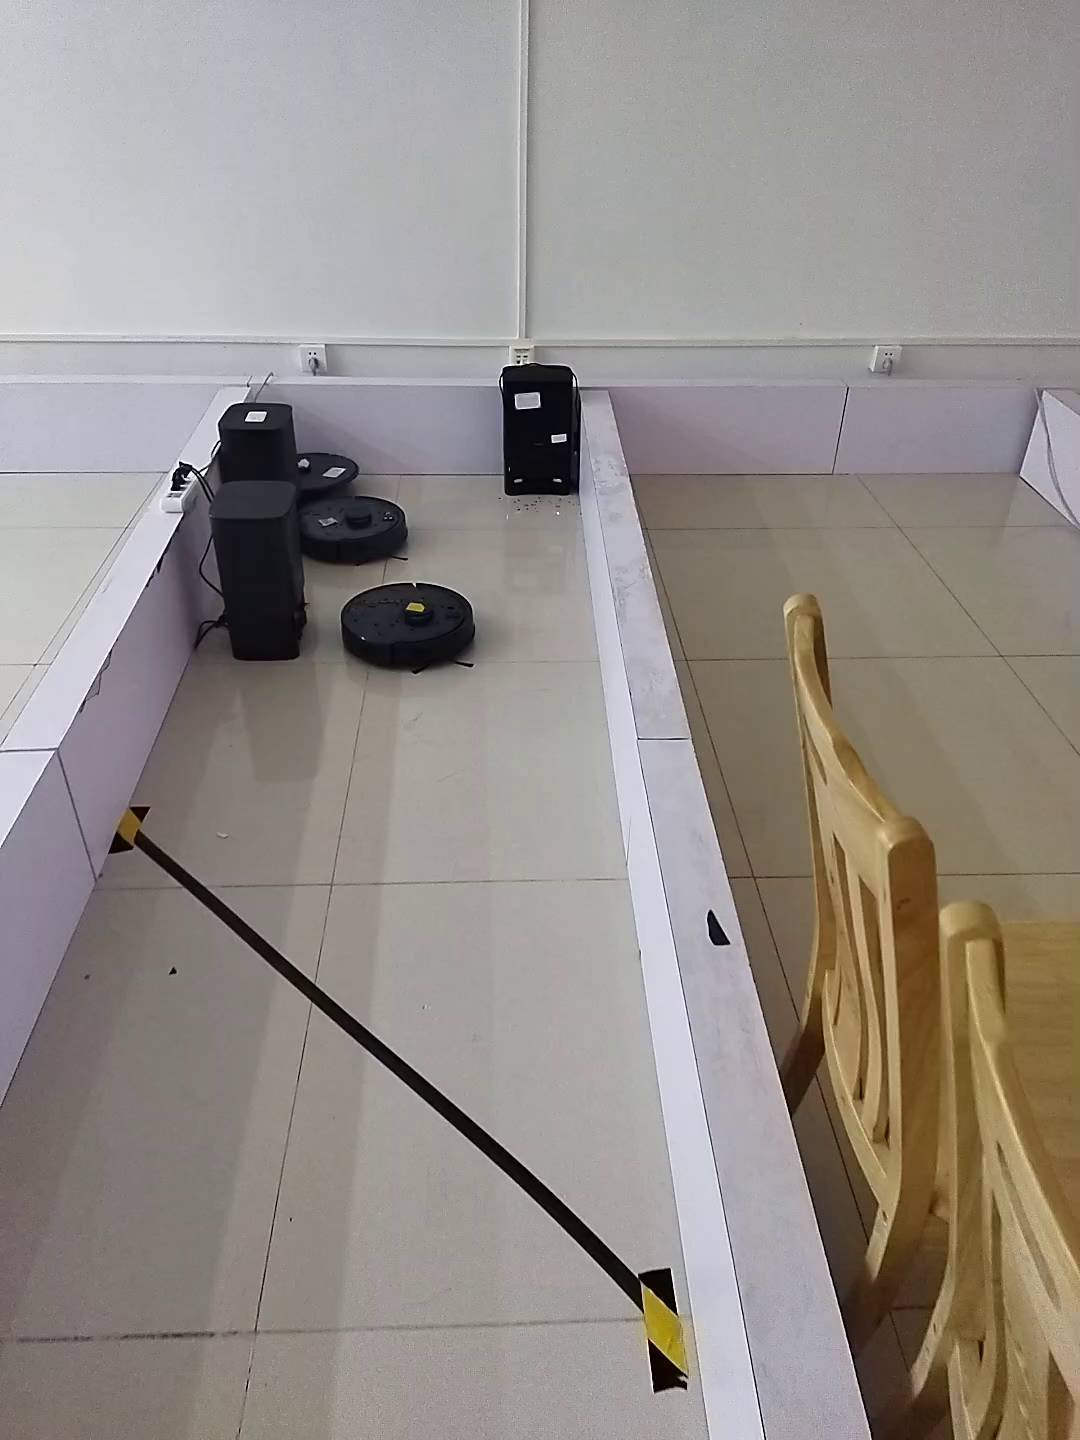dust collecting barrel: (210, 478, 305, 663), (498, 363, 580, 499), (216, 404, 303, 478)
